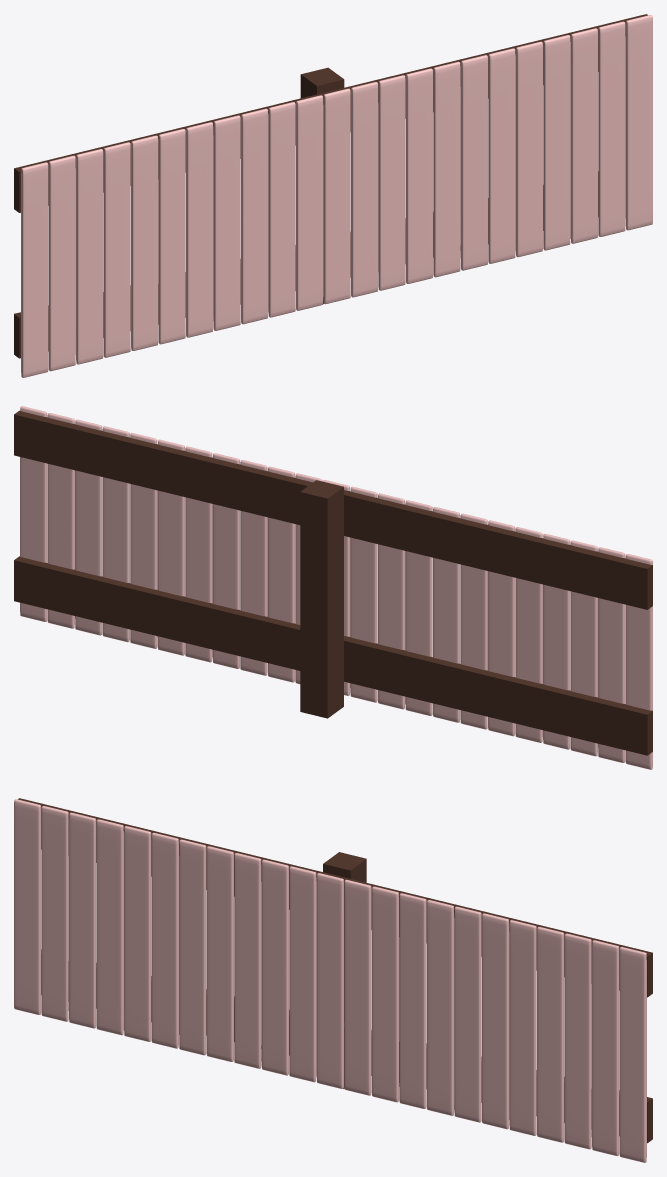
Rendered from picket_fence.glb.
The picture shows the model from 3 angles, top to bottom: view 1: azimuth 30°, elevation 25°; view 2: azimuth 150°, elevation 25°; view 3: azimuth 330°, elevation 25°; orthographic projection.
Visible parts, largest first — view 1: Picket.Left, Picket.Right, Crosspiece.Left, Crosspiece.Right, Post; view 2: Picket.Left, Picket.Right, Crosspiece.Left, Crosspiece.Right, Post; view 3: Picket.Left, Picket.Right, Crosspiece.Right, Crosspiece.Left, Post.
Boxes of the visible parts, x1,y1,x2,y2 form: Picket.Left: (21,88,350,377); Picket.Right: (351,15,652,297); Crosspiece.Left: (14,87,345,358); Crosspiece.Right: (345,14,647,277); Post: (300,67,344,304); Picket.Left: (323,480,652,769); Picket.Right: (20,406,322,684); Crosspiece.Left: (344,490,652,755); Crosspiece.Right: (14,410,312,670); Post: (300,480,343,718); Picket.Left: (14,799,343,1088); Picket.Right: (344,879,646,1162); Crosspiece.Right: (349,879,652,1143); Crosspiece.Left: (18,798,349,1068); Post: (323,852,366,1088).
Size of the model in its own units: 7.53 by 2.5 by 0.4899.
